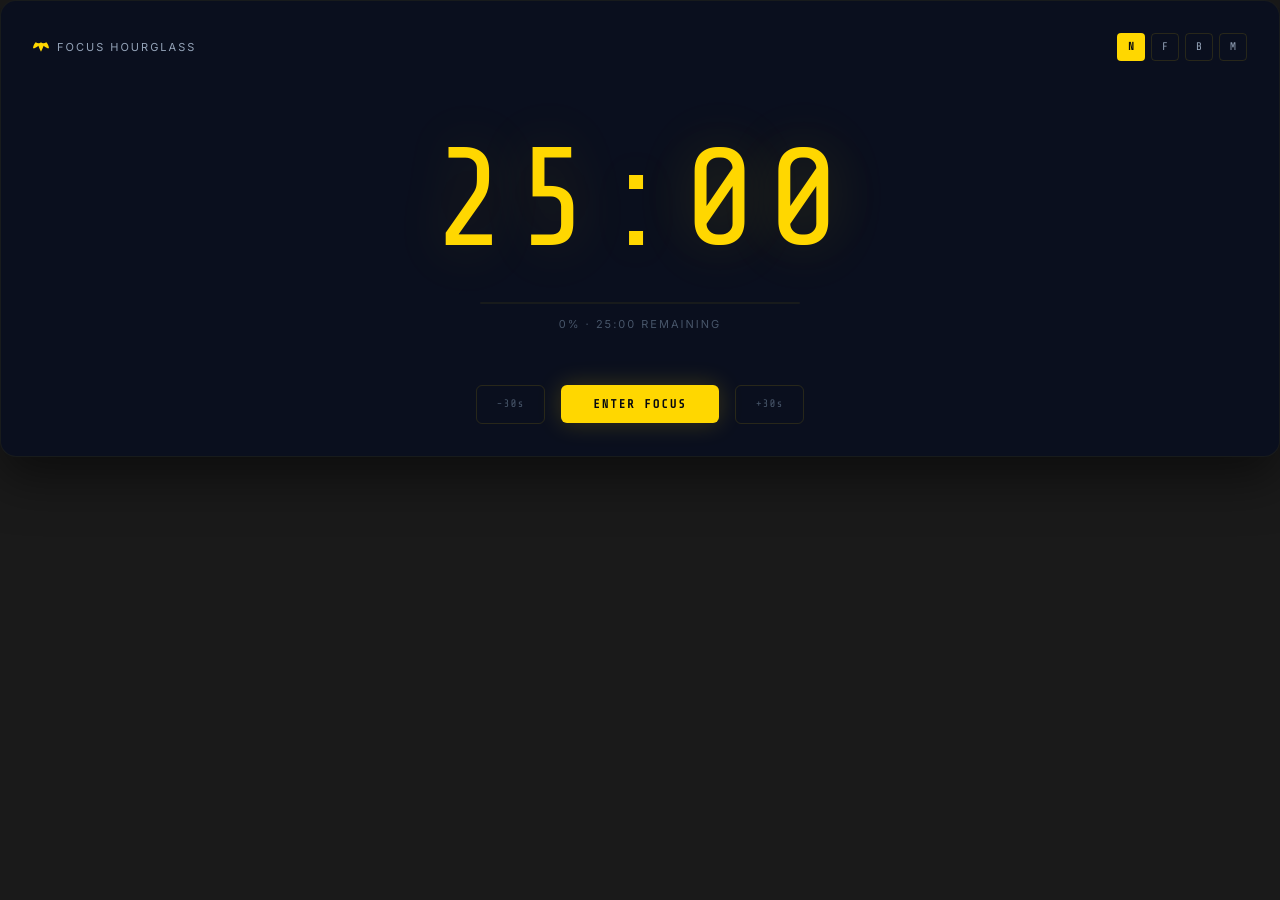
Test case: BatFocusTimer › enterFocus tolerates fullscreen rejection and still starts the session
Click the button "ENTER FOCUS" at coordinates (640, 404), box [561,385,719,423]
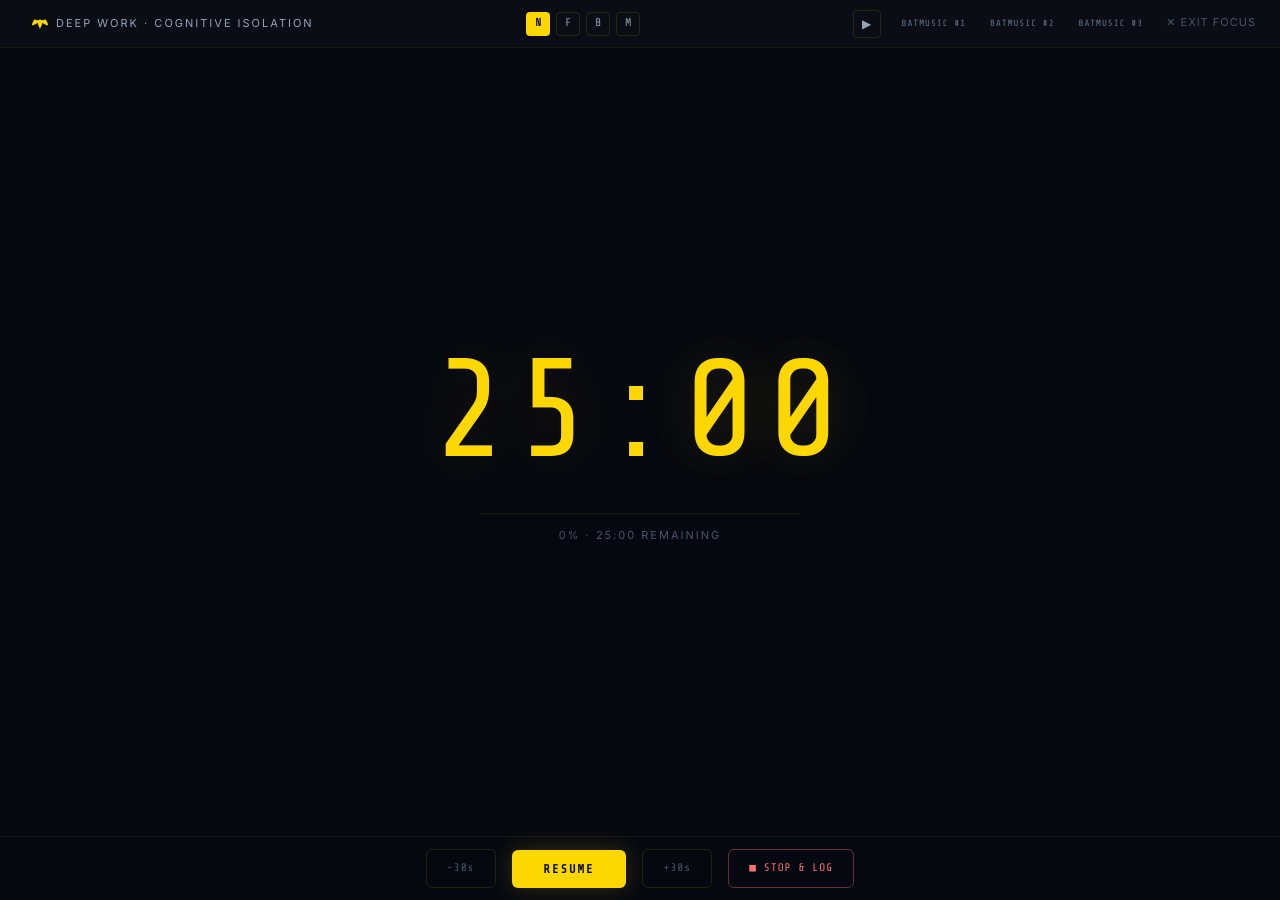
Expected: the button "✕ EXIT FOCUS" is shown, [1166,14,1256,30]
